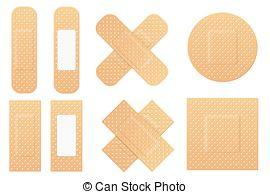bandage: (95, 13, 168, 86), (100, 100, 174, 172), (187, 12, 258, 83), (188, 98, 258, 169), (53, 5, 79, 94), (9, 100, 41, 171), (51, 100, 82, 172), (12, 7, 36, 94)
